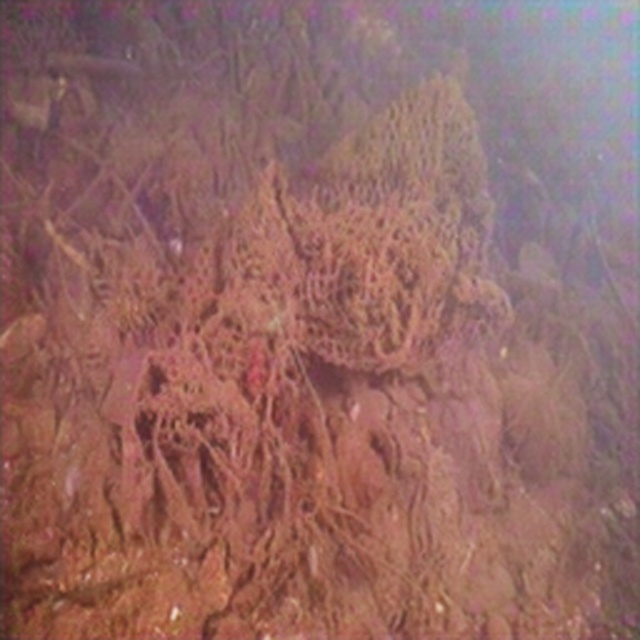mine: (168, 67, 514, 378)
